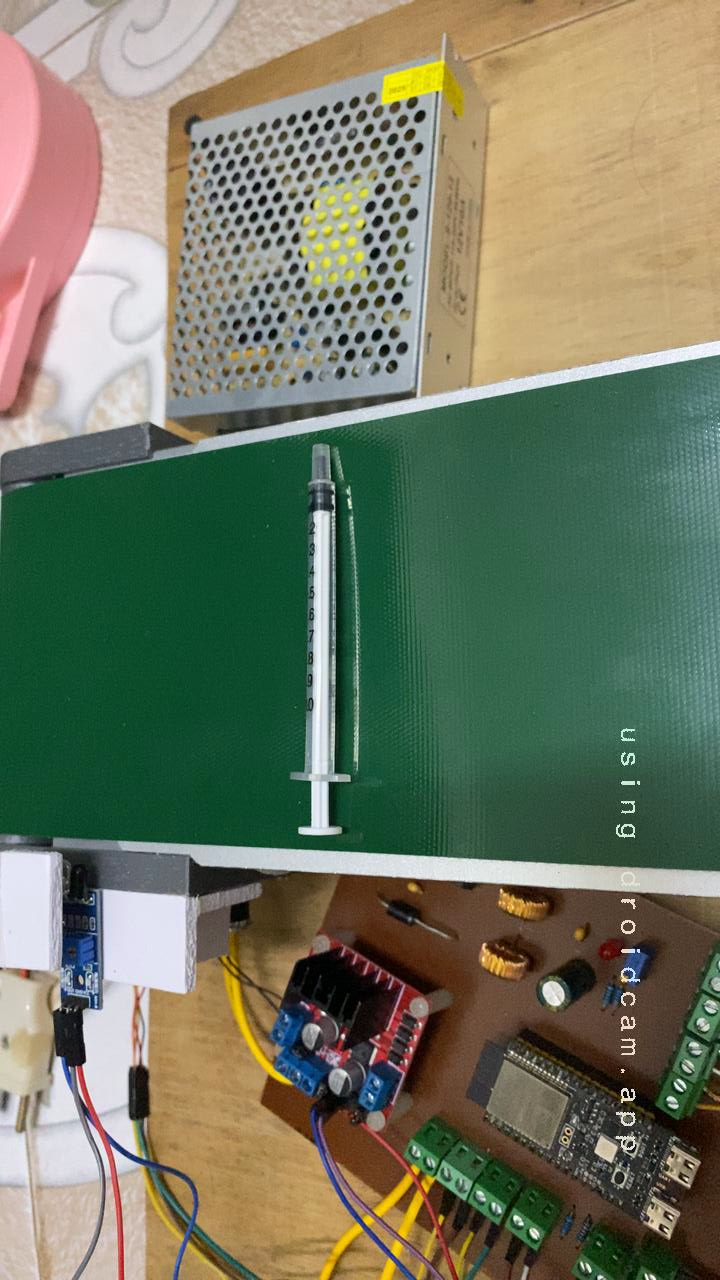syringe: (197, 453, 439, 870)
